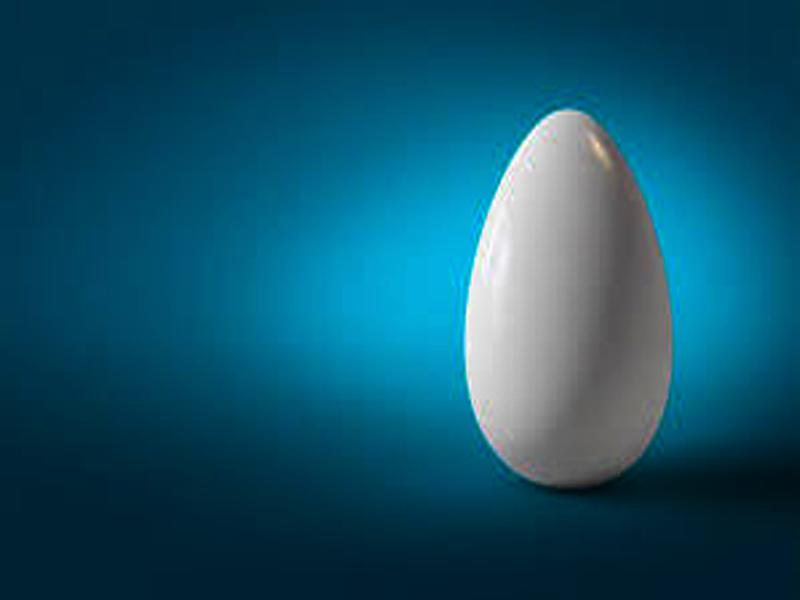Eggs: (463, 111, 674, 489)
